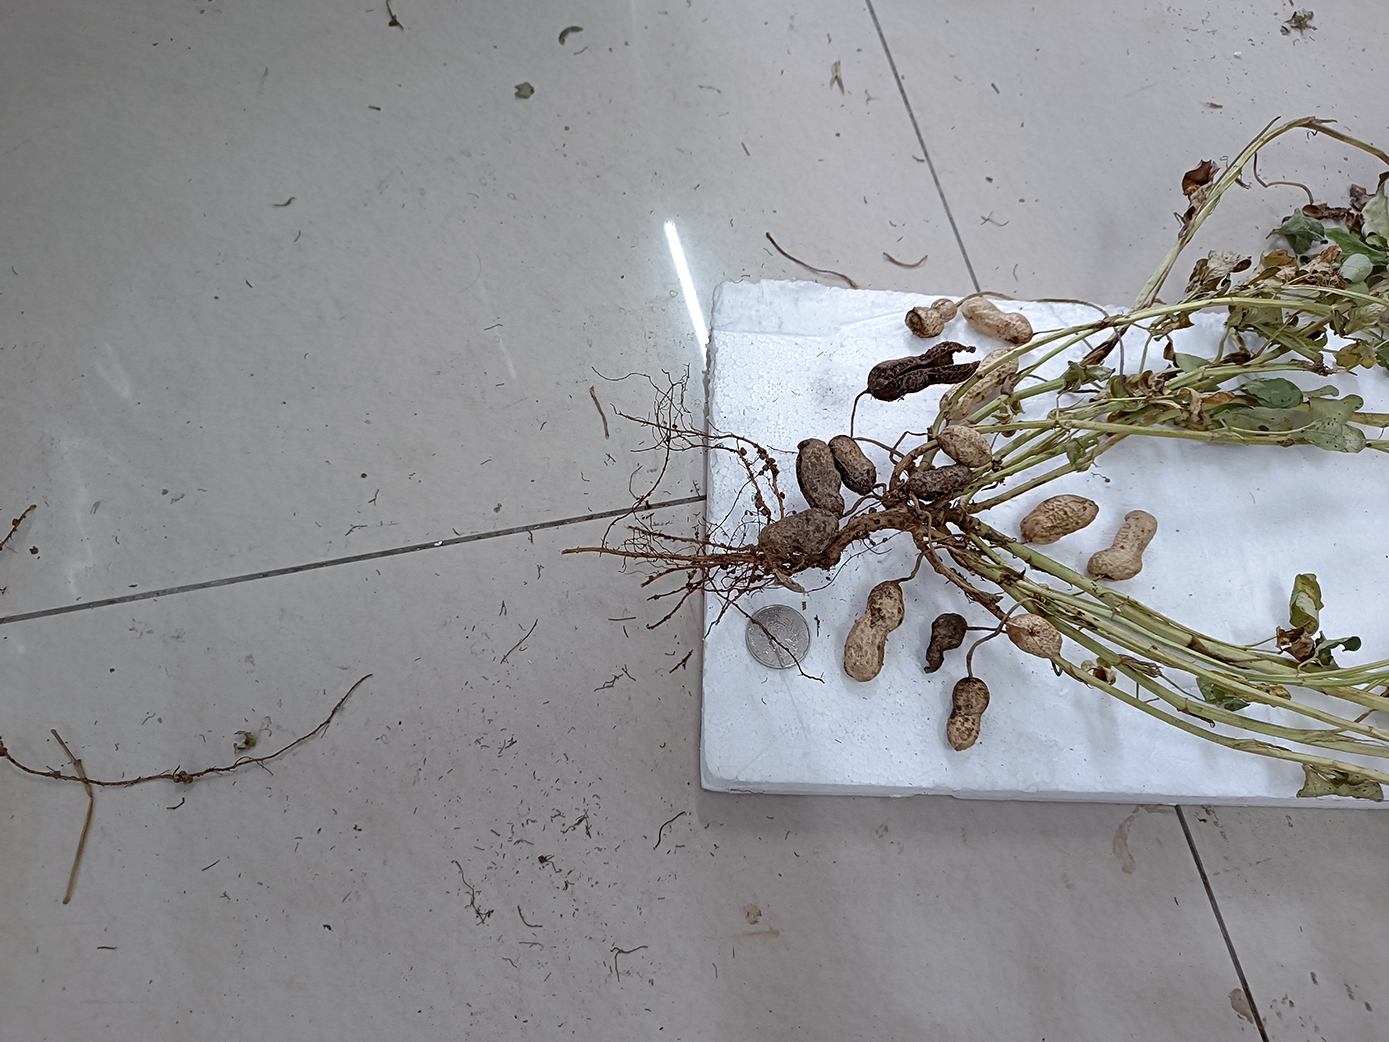h: (843, 581, 905, 682), (939, 348, 1018, 421), (1087, 510, 1157, 582), (1020, 494, 1099, 545), (960, 297, 1034, 345), (1005, 614, 1064, 658), (939, 425, 992, 467), (903, 298, 958, 338)
l: (867, 341, 980, 402), (757, 507, 840, 557), (795, 438, 845, 517), (944, 678, 989, 752), (827, 435, 876, 494), (925, 612, 965, 672), (907, 463, 972, 497)
